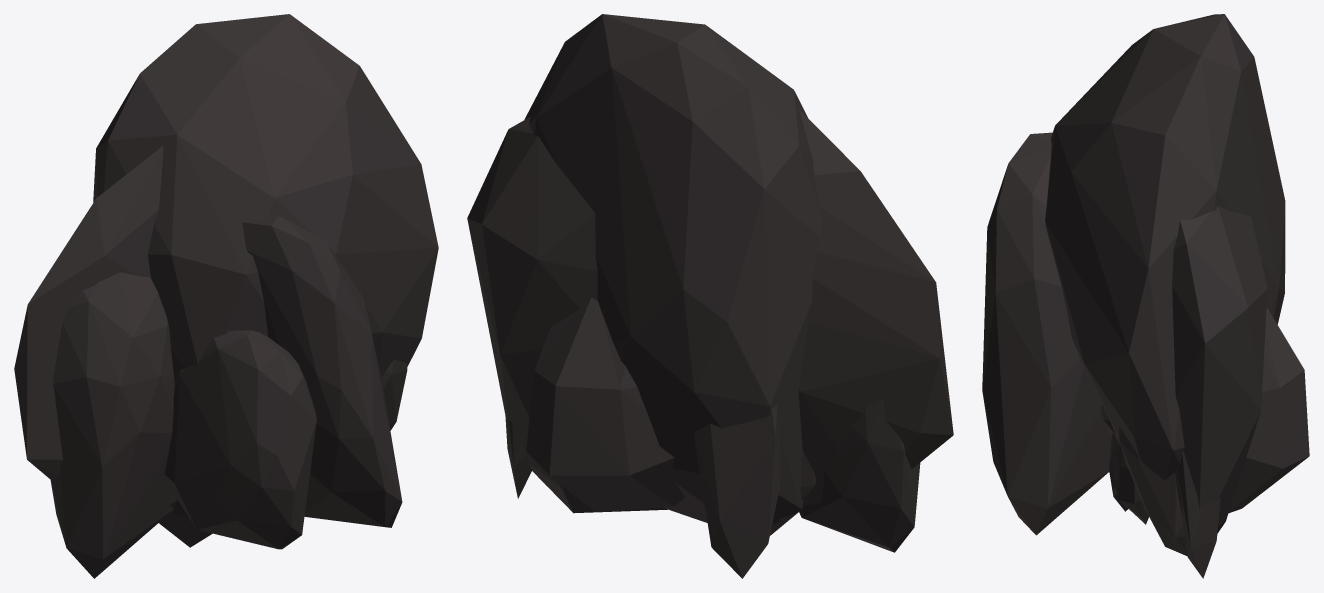
Rendered from Cliffs.fbx.
The picture shows the model from 3 angles, left to right: view 1: azimuth 30°, elevation 25°; view 2: azimuth 150°, elevation 25°; view 3: azimuth 270°, elevation 25°; orthographic projection. The views are drawn at different scales.
Visible parts, largest first — view 1: Cliff.003, Cliff.002, Cliff.001; view 2: Cliff.003, Cliff.002, Cliff; view 3: Cliff.003, Cliff.002, Cliff, Cliff.001.
Part boxes in pixels (x1,y1,x2,y2): Cliff.003: (93,14,438,549); Cliff.002: (14,146,176,578); Cliff.001: (381,359,407,430); Cliff.003: (524,14,822,535); Cliff.002: (467,109,953,552); Cliff: (505,297,815,578); Cliff.003: (982,14,1285,535); Cliff.002: (1172,206,1267,533); Cliff: (1101,307,1309,578); Cliff.001: (1119,428,1187,556).
Bounding box in the file's own units: 21.25 × 23.29 × 14.01.
